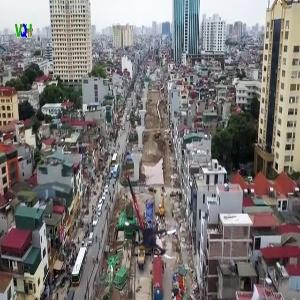drone: (123, 204, 188, 269)
